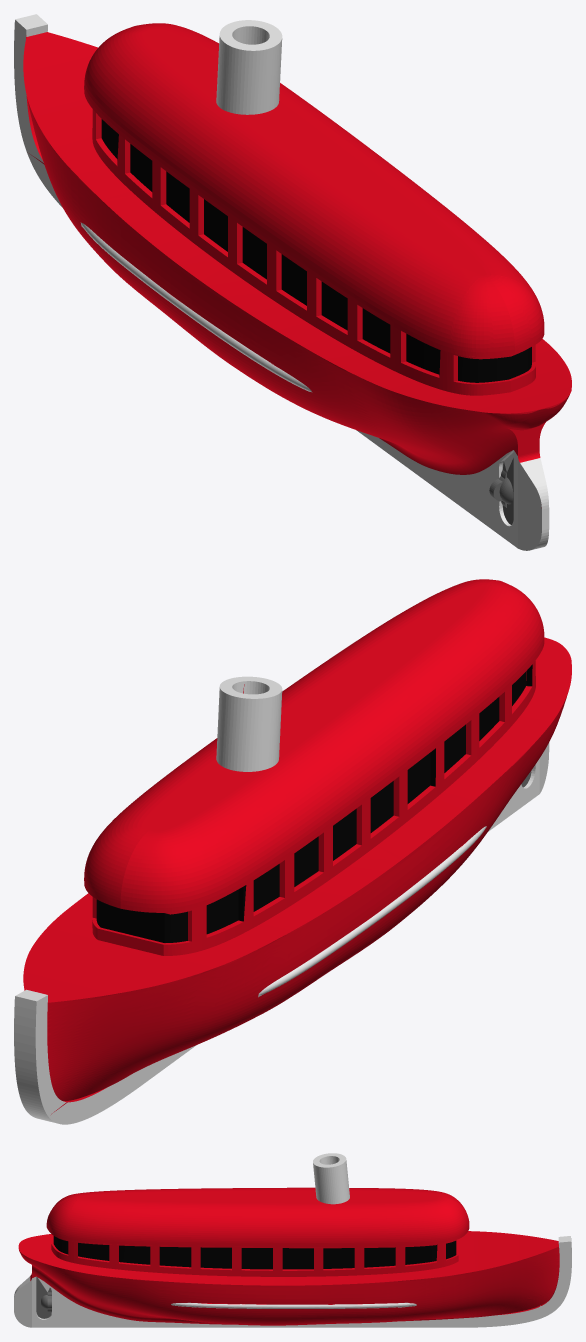
Rendered from steamboat.fbx.
3 renders of one model, top to bottom at view 1: azimuth 30°, elevation 25°; view 2: azimuth 150°, elevation 25°; view 3: azimuth 270°, elevation 25°, orthographic. The views are drawn at different scales.
Visible parts, largest first — view 1: steam lifeboat (2x C); view 2: steam lifeboat (2x C); view 3: steam lifeboat (2x C).
Boxes of the visible parts, bbox=[...] form: steam lifeboat (2x C): bbox=[14, 14, 571, 550]; steam lifeboat (2x C): bbox=[14, 579, 571, 1124]; steam lifeboat (2x C): bbox=[14, 1153, 571, 1327].
Size of the model in its own units: 1796 by 2613 by 7966.
